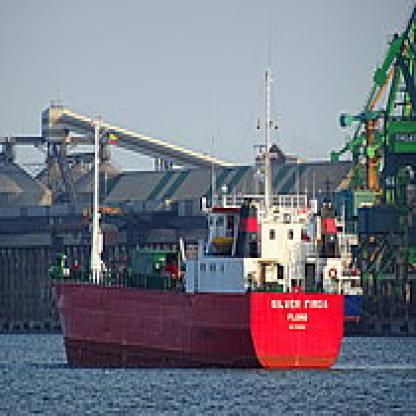Tanker: (31, 238, 349, 371)
